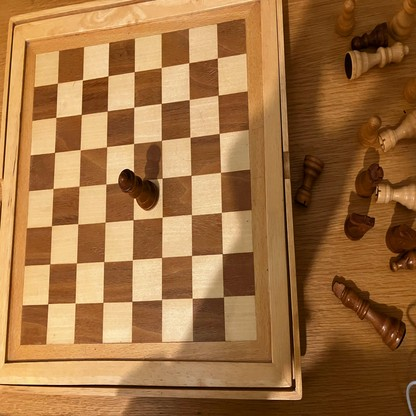bishop_black: (389, 254, 416, 270)
king_black: (333, 280, 405, 353)
knight_black: (387, 226, 416, 252), (345, 215, 375, 240)
pawn_black: (352, 20, 389, 50)
pawn_white: (337, 2, 355, 37), (359, 117, 381, 145)
queen_black: (118, 171, 158, 210)
queen_white: (345, 43, 410, 79)
rock_black: (298, 156, 322, 207), (356, 166, 383, 197)
rock_white: (378, 112, 416, 153), (376, 182, 416, 212)
